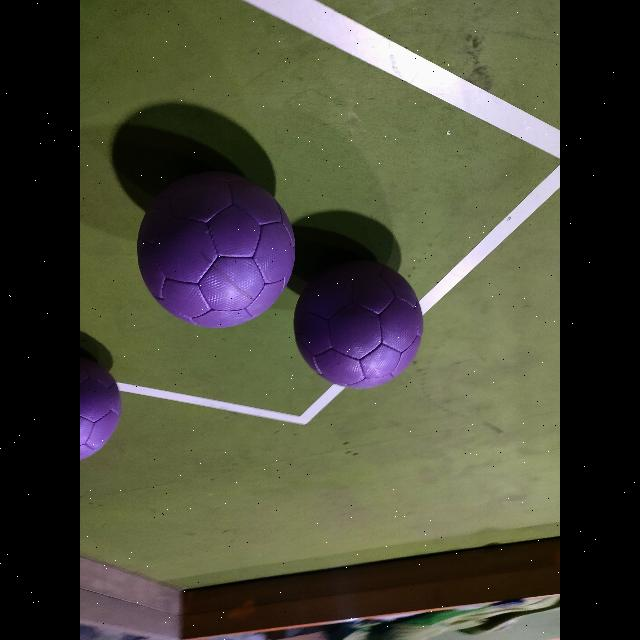P: (138, 172, 294, 328), (294, 261, 422, 389), (80, 355, 121, 465)
